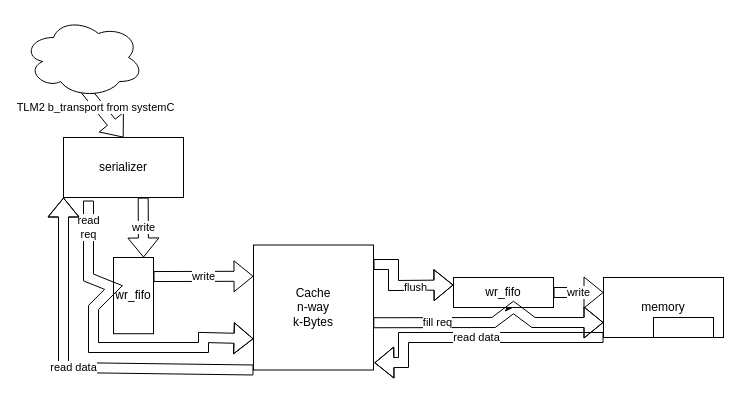
Image size: 742x396. Some labels were removed from this diagram. The shapes that lost their labels are listed below. From the top down, each one's centre as x and y in pixels, then its label:
(83,57): RISC-V-TLM (systemC)
(683,327): ElfMem
